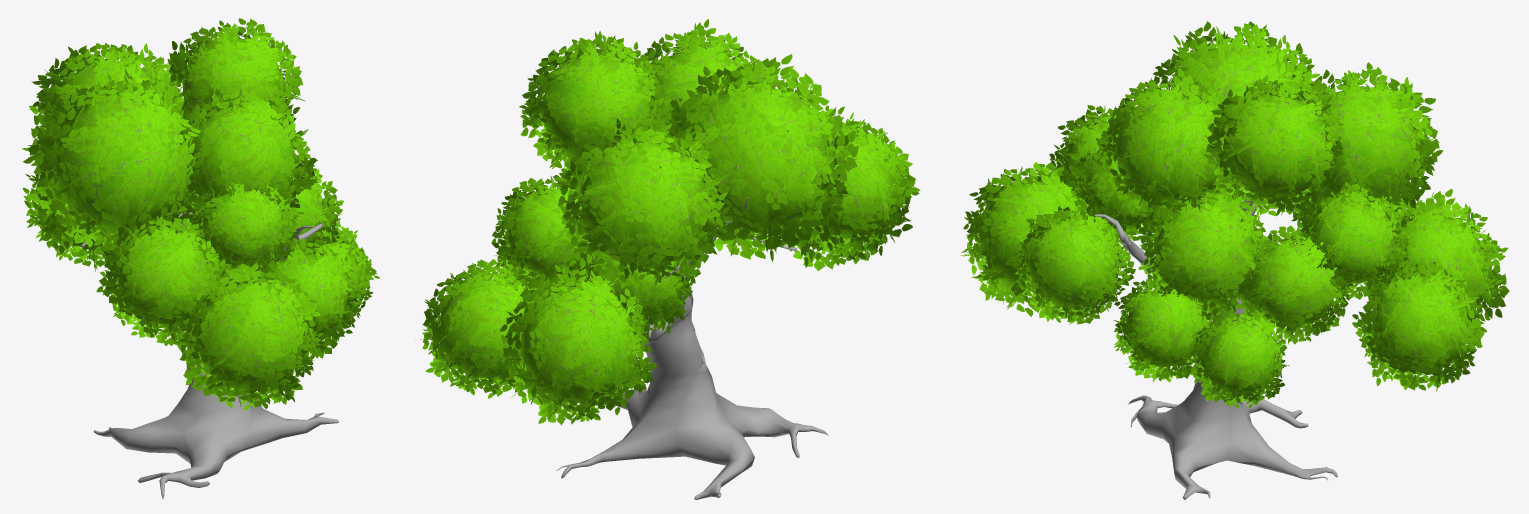
The model's file is Walnut Treeeee.fbx.
3 views of the same model, side by side, from view 1: azimuth 30°, elevation 25°; view 2: azimuth 150°, elevation 25°; view 3: azimuth 270°, elevation 25° (orthographic). The views are drawn at different scales.
Visible parts, largest first — view 1: FAE_Tree_B_LOD0.001, DeadTree_LoPoly; view 2: FAE_Tree_B_LOD0.001, DeadTree_LoPoly; view 3: FAE_Tree_B_LOD0.001, DeadTree_LoPoly.
Boxes of the visible parts, x1=… form: FAE_Tree_B_LOD0.001: x1=22, y1=18, x2=379, y2=410; DeadTree_LoPoly: x1=80, y1=201, x2=338, y2=499; FAE_Tree_B_LOD0.001: x1=415, y1=19, x2=920, y2=425; DeadTree_LoPoly: x1=556, y1=197, x2=828, y2=499; FAE_Tree_B_LOD0.001: x1=960, y1=21, x2=1509, y2=408; DeadTree_LoPoly: x1=1094, y1=188, x2=1337, y2=499.
Size of what is drawn, in the model's own units: 1229 by 1420 by 1786.
